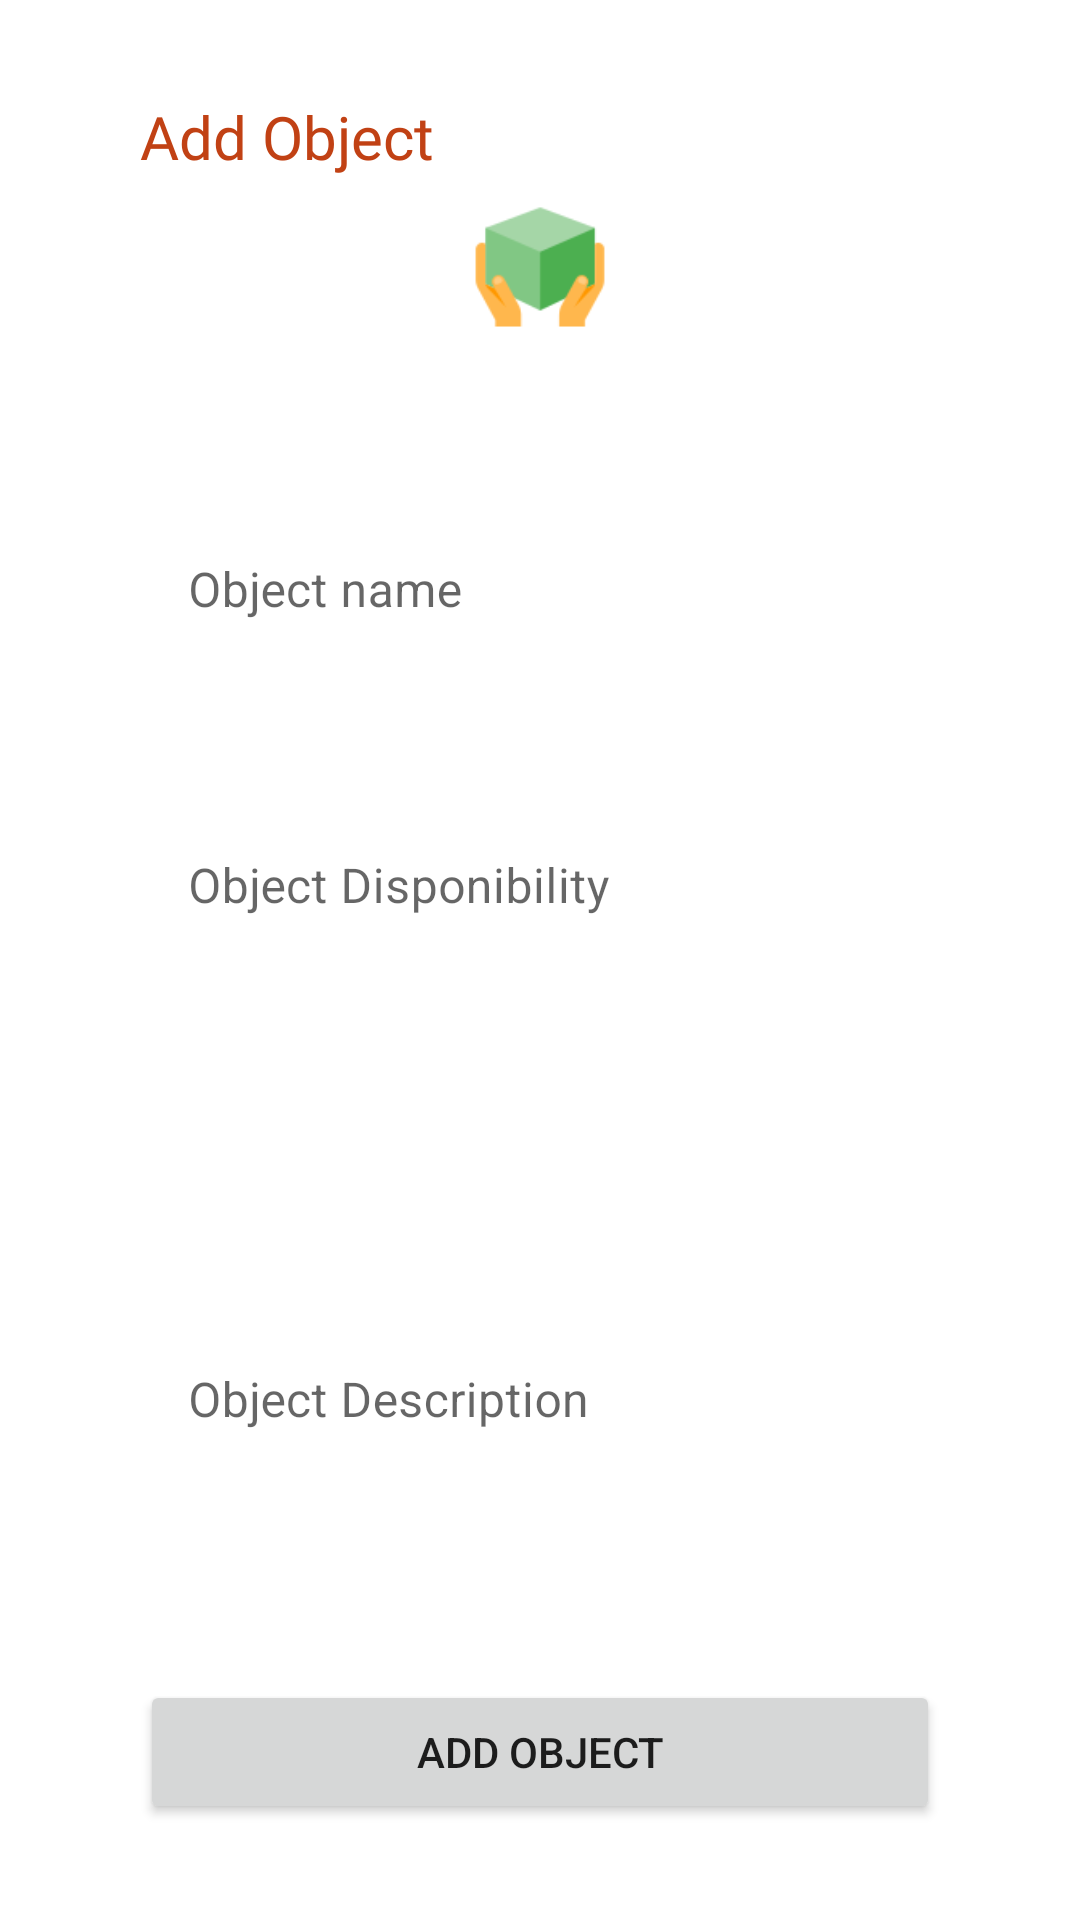

Icons on this 1080*1920 Android screen, each with the point to tap as (x=x, y=y):
box: (x=540, y=267)
